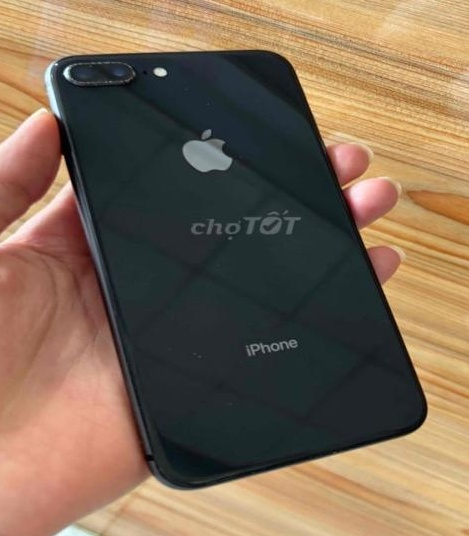scratch: (59, 54, 146, 88), (161, 335, 216, 373), (40, 54, 74, 87), (227, 152, 261, 172), (217, 388, 242, 415), (205, 255, 235, 277), (129, 431, 158, 453), (174, 76, 202, 98), (201, 97, 222, 108)
